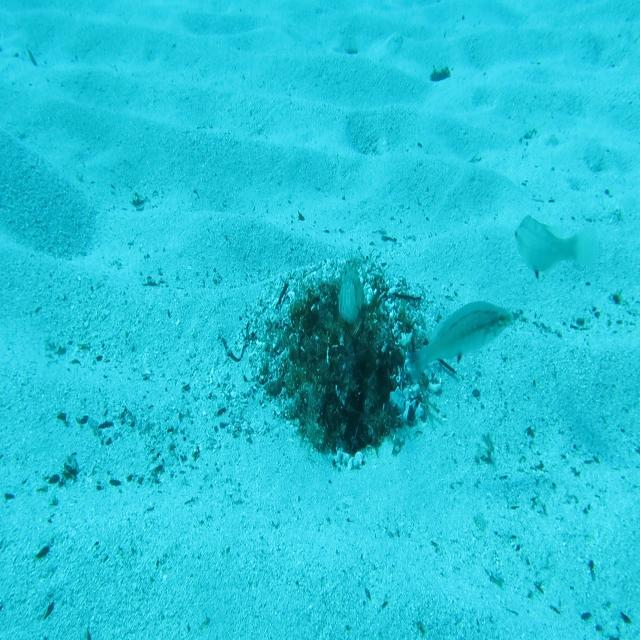NIP_CORE: (337, 259, 365, 328)
core_nest: (318, 307, 364, 358)
female: (406, 299, 516, 388), (513, 211, 601, 286)
nest: (244, 243, 457, 480)
vegetation: (430, 64, 452, 85)
